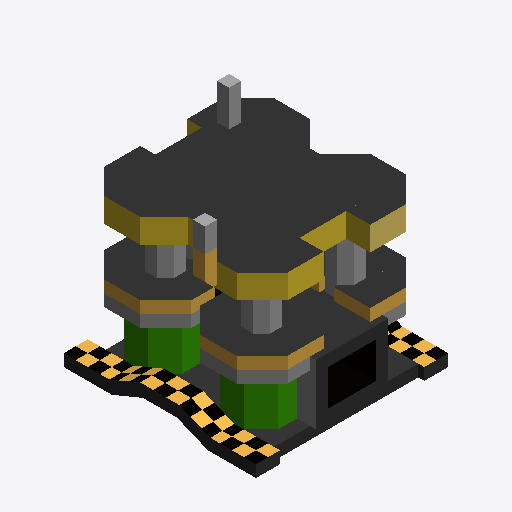
Isometric view (azimuth 45°, elevation 35.3°) of a Minecraft model made of 114 cuboids, textured from the same repository.
Parts seen in each view (by area): element 103, element 49, element 2, element 48, element 83, element 35, element 38, element 30, element 45, element 96, element 100, element 31 (+28 smaller).
Boxes of the visible parts, x1,y1,x2,y2 form: element 103: [118, 109, 380, 258]; element 49: [186, 257, 387, 373]; element 2: [106, 339, 417, 456]; element 48: [297, 360, 387, 428]; element 83: [346, 199, 405, 251]; element 35: [200, 314, 271, 383]; element 38: [334, 273, 405, 324]; element 30: [104, 259, 175, 327]; element 45: [208, 424, 279, 477]; element 96: [237, 245, 287, 299]; element 100: [104, 182, 163, 243]; element 31: [140, 286, 190, 327].
Size of the model in its own units: 16 by 16 by 16.